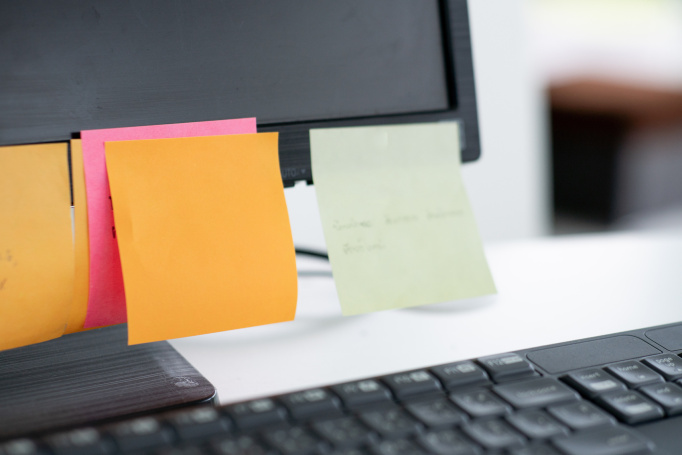Note: (80, 129, 299, 338), (312, 127, 503, 305), (3, 141, 75, 353)
